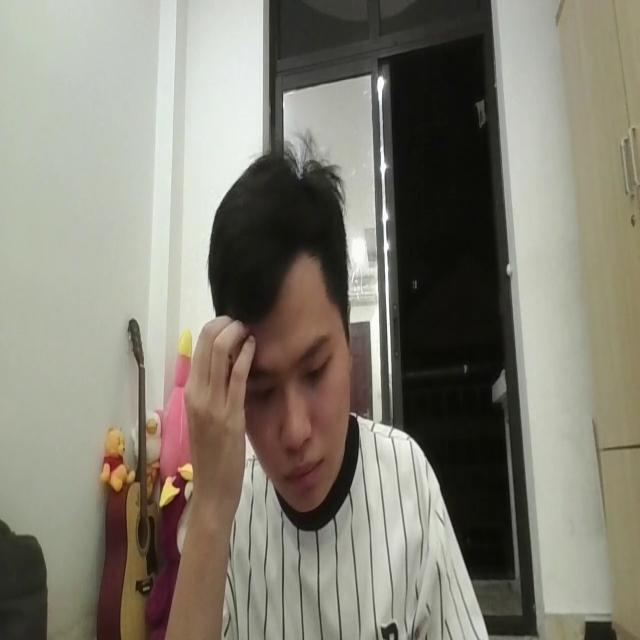student: (171, 139, 487, 640)
